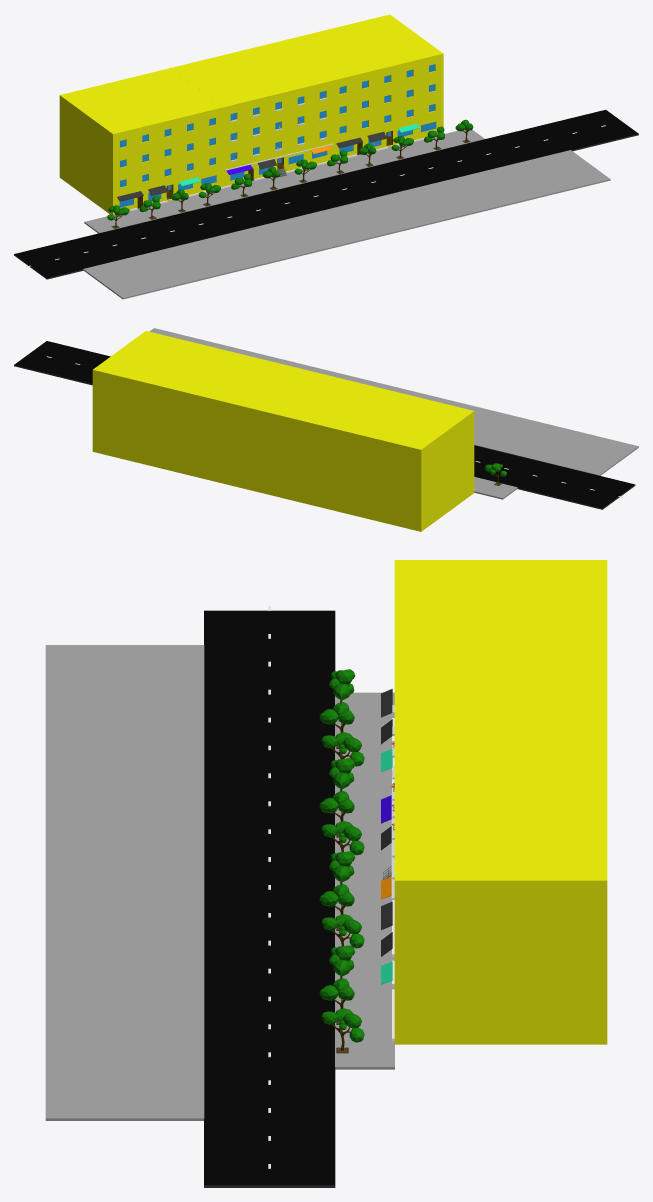
File: CityStreet.fbx
3 views of the same model, one above another, from view 1: azimuth 30°, elevation 25°; view 2: azimuth 150°, elevation 25°; view 3: azimuth 270°, elevation 25° (orthographic). The views are drawn at different scales.
Parts seen in each view (by area): view 1: CloseSidewalk, Street, Building.001, Building.002, Building, FarSidewalk; view 2: Building.001, Building, Building.002, CloseSidewalk, Street, FarSidewalk; view 3: CloseSidewalk, Street, Building.002, Building.001, Building, FarSidewalk, Tree.001, Tree.000.
Part boxes in pixels (box(x1,y1,x2,y2)): CloseSidewalk: box(83, 150, 610, 299); Street: box(14, 109, 638, 279); Building.001: box(59, 68, 224, 215); Building.002: box(280, 14, 443, 159); Building: box(170, 41, 334, 188); FarSidewalk: box(84, 129, 484, 233); Building.001: box(311, 384, 474, 531); Building: box(201, 357, 363, 504); Building.002: box(92, 331, 255, 477); CloseSidewalk: box(149, 328, 638, 475); Street: box(14, 341, 635, 509); FarSidewalk: box(474, 477, 517, 499); CloseSidewalk: box(45, 645, 204, 1120); Street: box(204, 610, 335, 1187); Building.002: box(392, 773, 607, 1044); Building.001: box(392, 560, 607, 792); Building: box(392, 667, 607, 931); FarSidewalk: box(335, 692, 394, 1069); Tree.001: box(321, 1008, 364, 1050); Tree.000: box(321, 914, 364, 948).
Size of the model in its own units: 17485 by 2394 by 7172.
